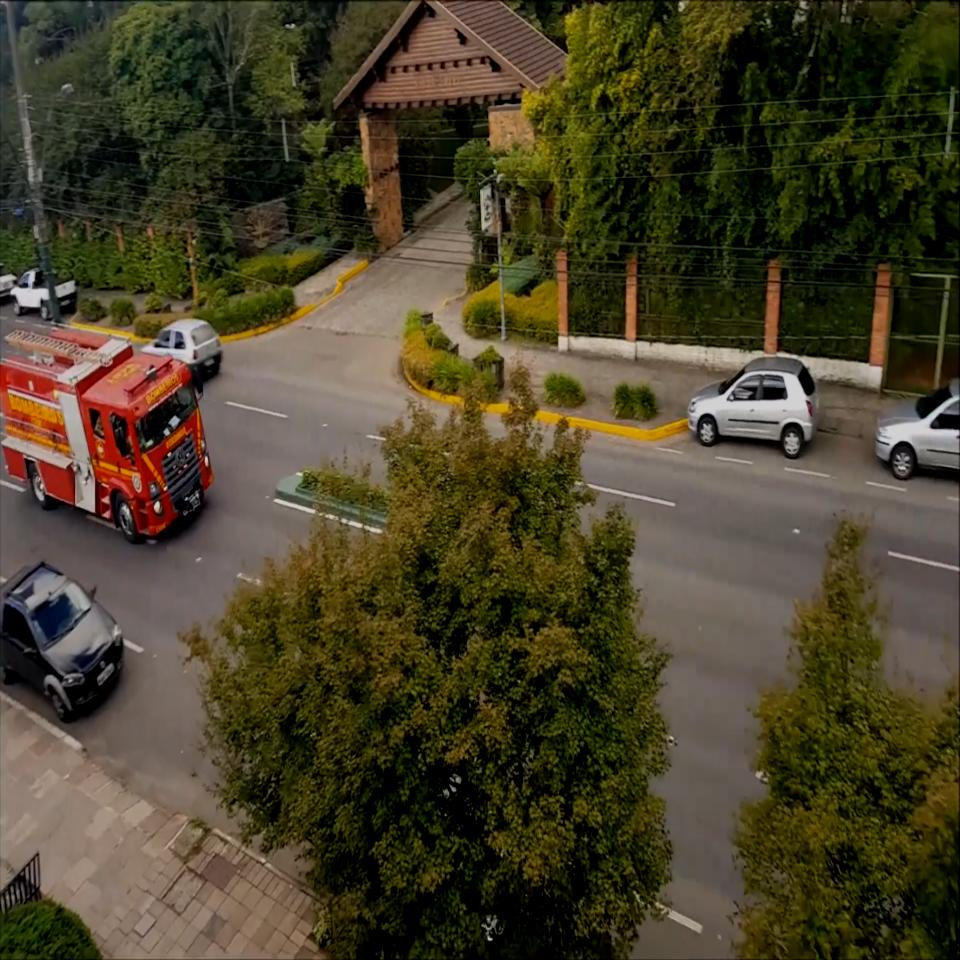bombeiro: (0, 321, 215, 543)
